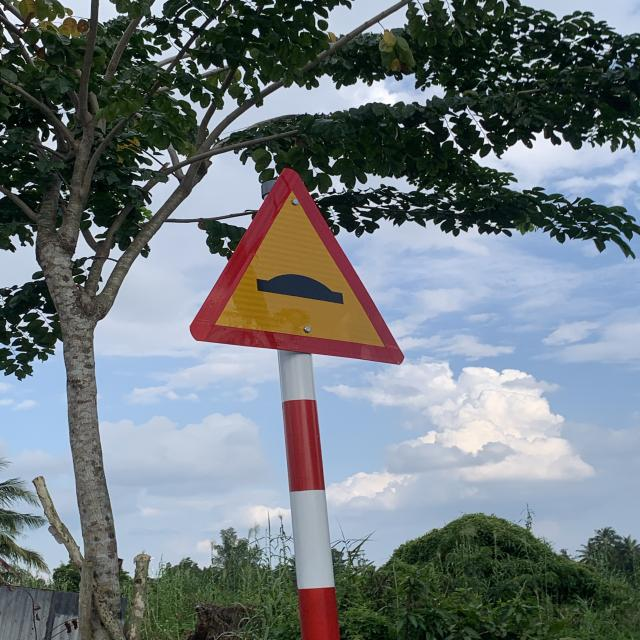Duong_Cong_Ben_Phai: (191, 168, 403, 365)
